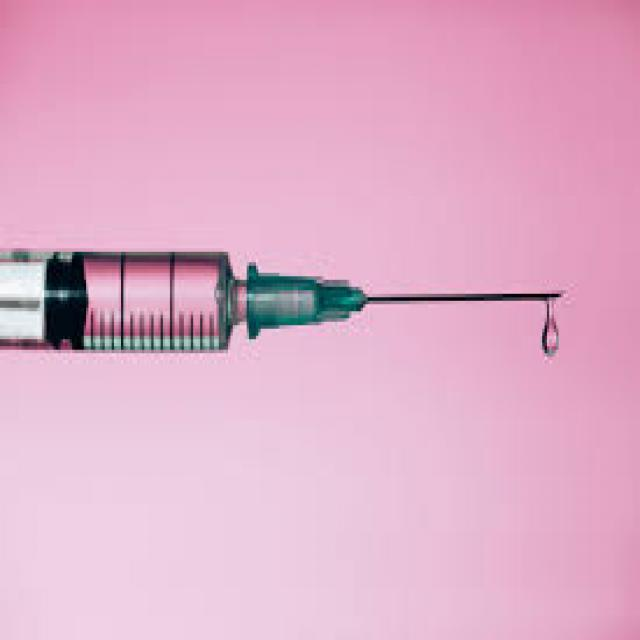syringe: (1, 202, 613, 457)
